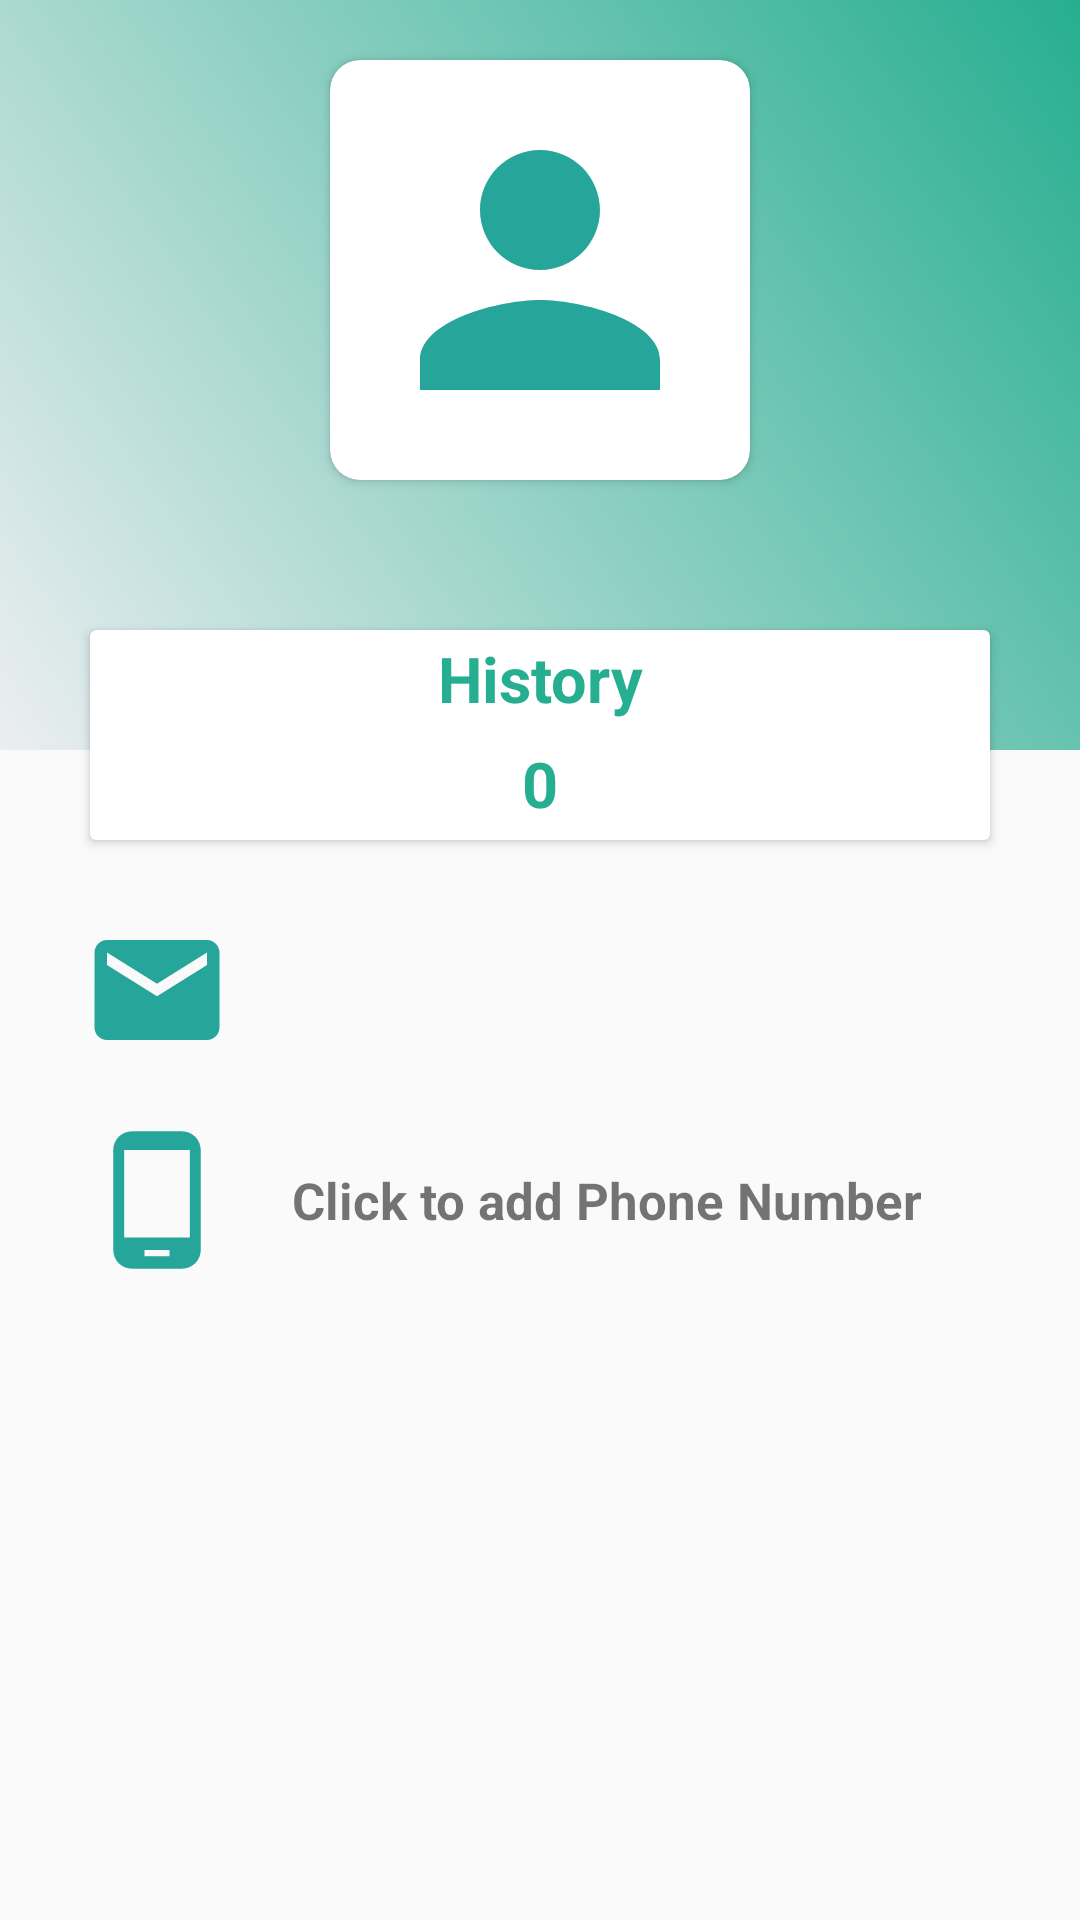

Named icons in this screenshot (1080 × 1920) and their centers, (x=x, y=y):
Email: (x=157, y=990)
Profile: (x=540, y=270)
